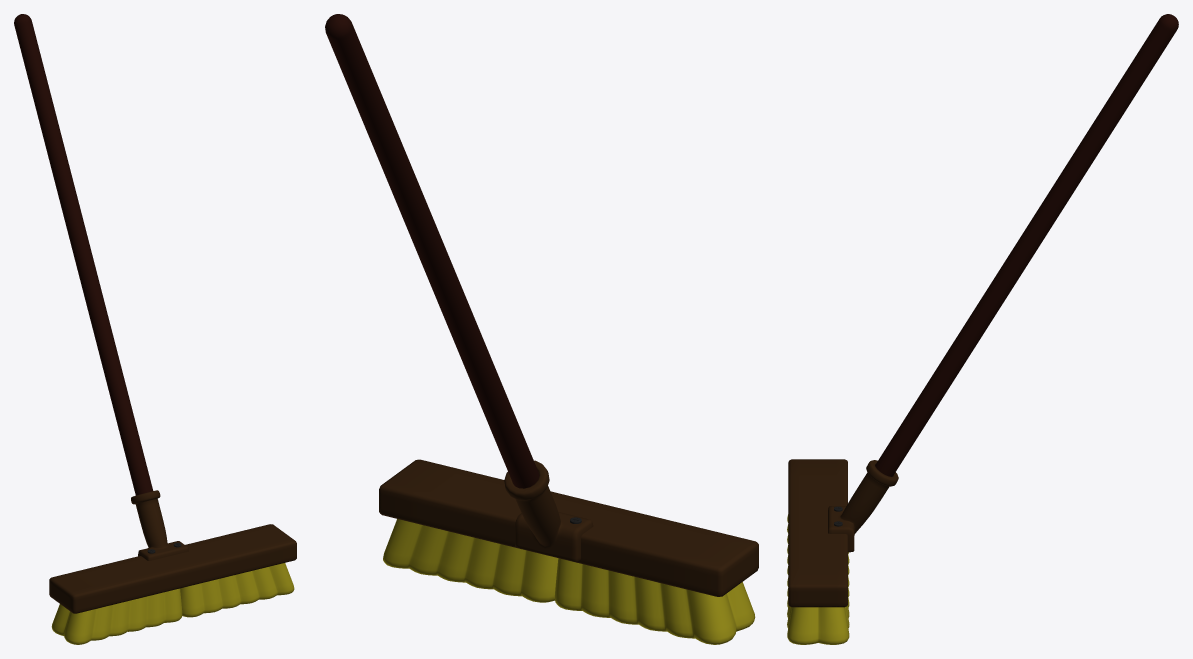
Rendered from Broom.fbx.
3 views of the same model, side by side, from view 1: azimuth 30°, elevation 25°; view 2: azimuth 150°, elevation 25°; view 3: azimuth 270°, elevation 25° (orthographic). The views are drawn at different scales.
Visible parts, largest first — view 1: broom_head, pole, bristles_1, bristles_2, head_attachement; view 2: broom_head, pole, bristles_1, bristles_2, head_attachement; view 3: pole, broom_head, bristles_2, head_attachement.
Part boxes in pixels (x1=…): broom_head: x1=49, y1=524, x2=296, y2=613; pole: x1=14, y1=14, x2=153, y2=495; bristles_1: x1=51, y1=588, x2=182, y2=644; bristles_2: x1=180, y1=563, x2=294, y2=617; head_attachement: x1=131, y1=490, x2=188, y2=560; broom_head: x1=379, y1=459, x2=758, y2=596; pole: x1=325, y1=14, x2=539, y2=488; bristles_1: x1=554, y1=558, x2=755, y2=644; bristles_2: x1=383, y1=519, x2=558, y2=602; head_attachement: x1=504, y1=460, x2=593, y2=562; pole: x1=875, y1=14, x2=1178, y2=476; broom_head: x1=788, y1=459, x2=847, y2=607; bristles_2: x1=787, y1=576, x2=849, y2=644; head_attachement: x1=828, y1=460, x2=898, y2=552.
Bounding box in the file's own units: 3.3 × 6.81 × 4.26.
